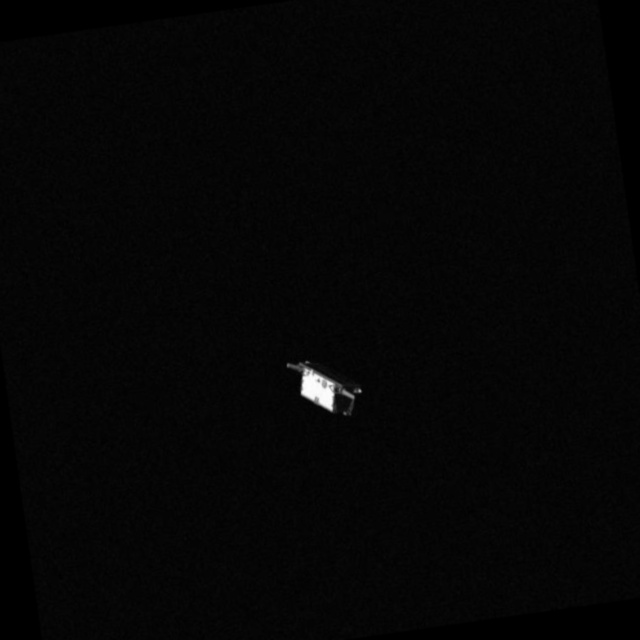medium_debris: (276, 342, 376, 430)
